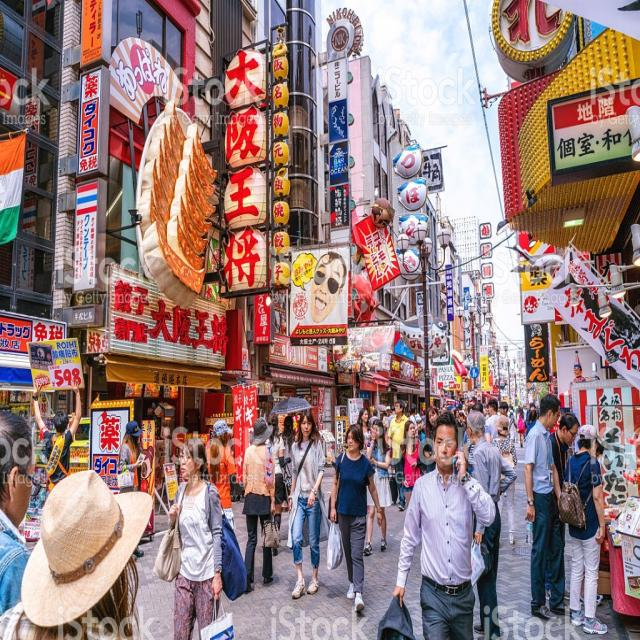body: (0, 463, 159, 639), (392, 409, 497, 639), (149, 433, 249, 639), (465, 408, 519, 640), (522, 392, 576, 622), (326, 420, 384, 614), (558, 422, 610, 638), (284, 406, 332, 603), (0, 408, 44, 617), (544, 411, 583, 603), (241, 414, 277, 594), (30, 376, 84, 495), (361, 416, 391, 557), (116, 420, 145, 563), (297, 250, 347, 328), (490, 412, 519, 545), (206, 419, 236, 533), (265, 410, 286, 558), (387, 398, 411, 512), (399, 419, 424, 508), (462, 401, 492, 475), (356, 406, 373, 515), (279, 413, 297, 494), (417, 405, 472, 430), (423, 404, 441, 475), (579, 569, 604, 607), (564, 354, 592, 385), (498, 400, 516, 445), (484, 398, 500, 444), (524, 396, 538, 442), (408, 402, 422, 441), (515, 404, 526, 448), (380, 401, 390, 449), (507, 395, 516, 448), (386, 404, 396, 436), (458, 411, 468, 438), (368, 409, 381, 427), (480, 394, 488, 418), (499, 485, 509, 498), (338, 404, 346, 416)
